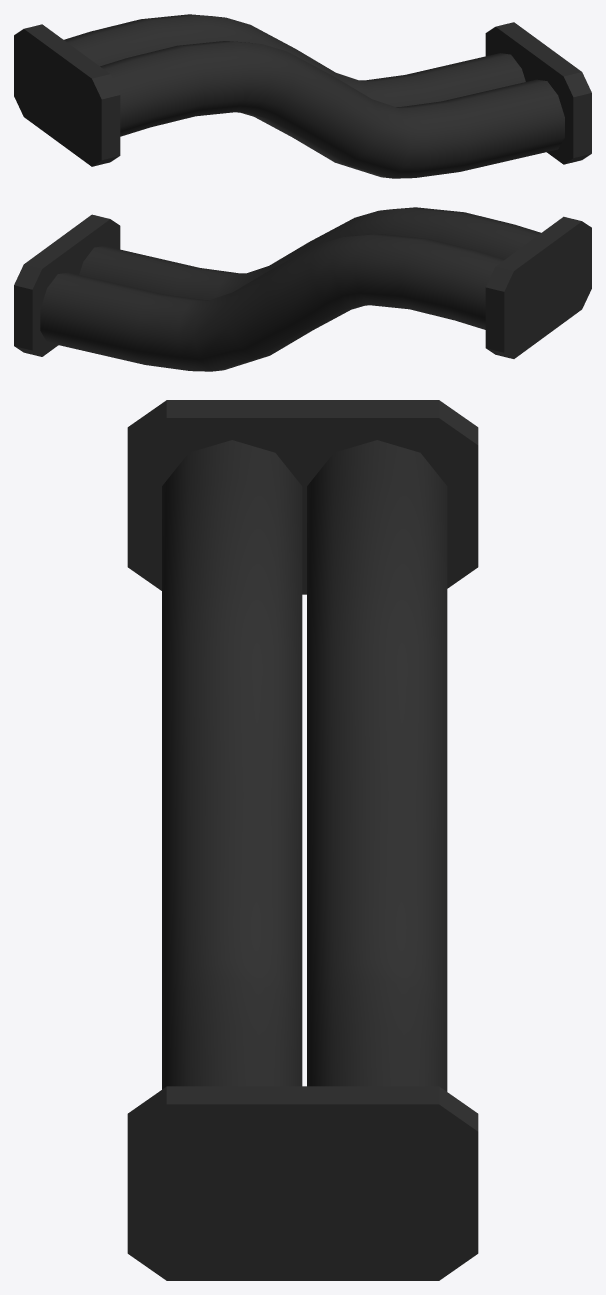
File: Pfb_Soda_Pipe__4.fbx
3 renders of one model, top to bottom at view 1: azimuth 30°, elevation 25°; view 2: azimuth 150°, elevation 25°; view 3: azimuth 270°, elevation 25°, orthographic. The views are drawn at different scales.
Parts seen in each view (by area): view 1: MAT_Soda_Pipe; view 2: MAT_Soda_Pipe; view 3: MAT_Soda_Pipe.
Part boxes in pixels (bbox=[...]): MAT_Soda_Pipe: bbox=[14, 14, 591, 178]; MAT_Soda_Pipe: bbox=[14, 207, 591, 371]; MAT_Soda_Pipe: bbox=[127, 400, 478, 1280].
Bounding box in the file's own units: 2.3 × 0.9036 × 0.7141.
Materials: 1 (1 with a texture image).
